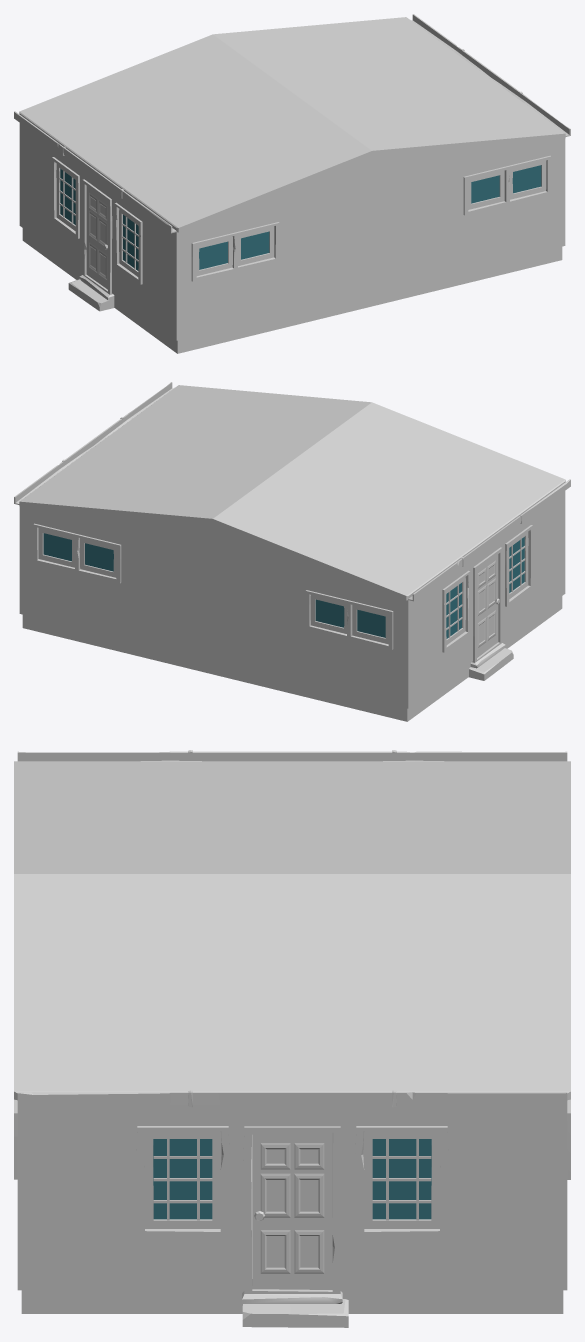
The picture shows the model from 3 angles, top to bottom: view 1: azimuth 30°, elevation 25°; view 2: azimuth 150°, elevation 25°; view 3: azimuth 270°, elevation 25°; orthographic projection. The views are drawn at different scales.
Parts seen in each view (by area): view 1: SM_Bld_SmallBuilding_03, SM_Bld_SmallBuilding_03_Glass; view 2: SM_Bld_SmallBuilding_03, SM_Bld_SmallBuilding_03_Glass; view 3: SM_Bld_SmallBuilding_03, SM_Bld_SmallBuilding_03_Glass.
Part boxes in pixels (x1=…): SM_Bld_SmallBuilding_03: x1=14, y1=14, x2=570, y2=353; SM_Bld_SmallBuilding_03_Glass: x1=60, y1=165, x2=541, y2=270; SM_Bld_SmallBuilding_03: x1=14, y1=382, x2=570, y2=721; SM_Bld_SmallBuilding_03_Glass: x1=43, y1=533, x2=524, y2=638; SM_Bld_SmallBuilding_03: x1=14, y1=750, x2=570, y2=1327; SM_Bld_SmallBuilding_03_Glass: x1=153, y1=1139, x2=431, y2=1219.
Bounding box in the file's own units: 10.7 × 3.89 × 7.1.
